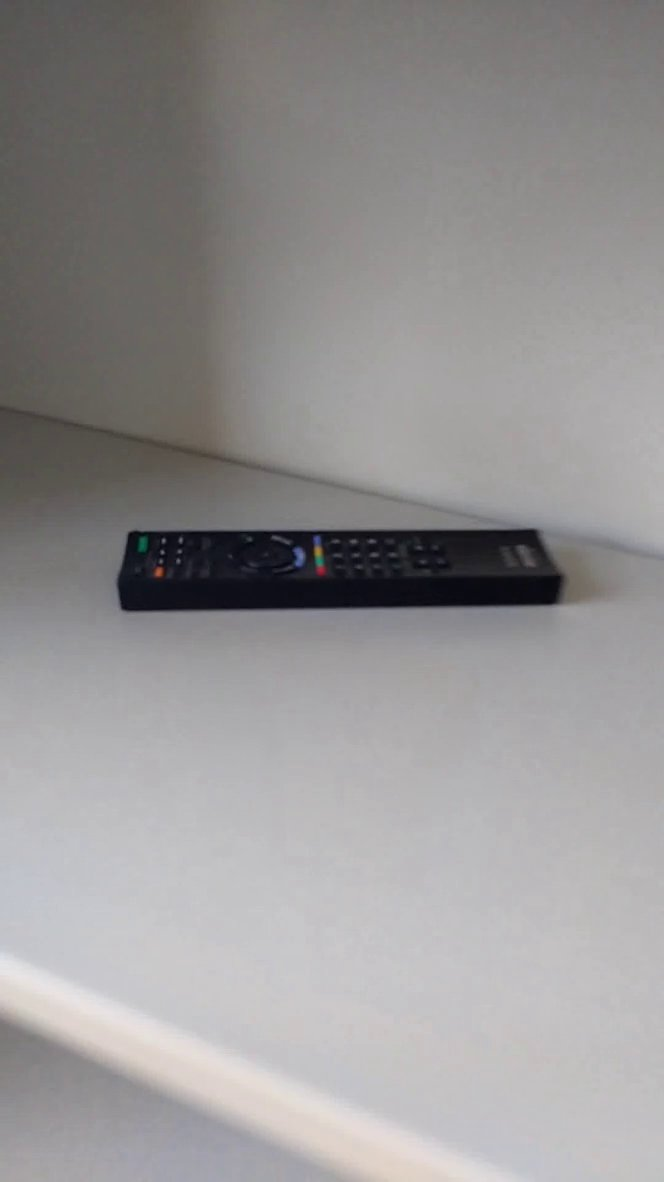remote: (98, 505, 577, 647)
